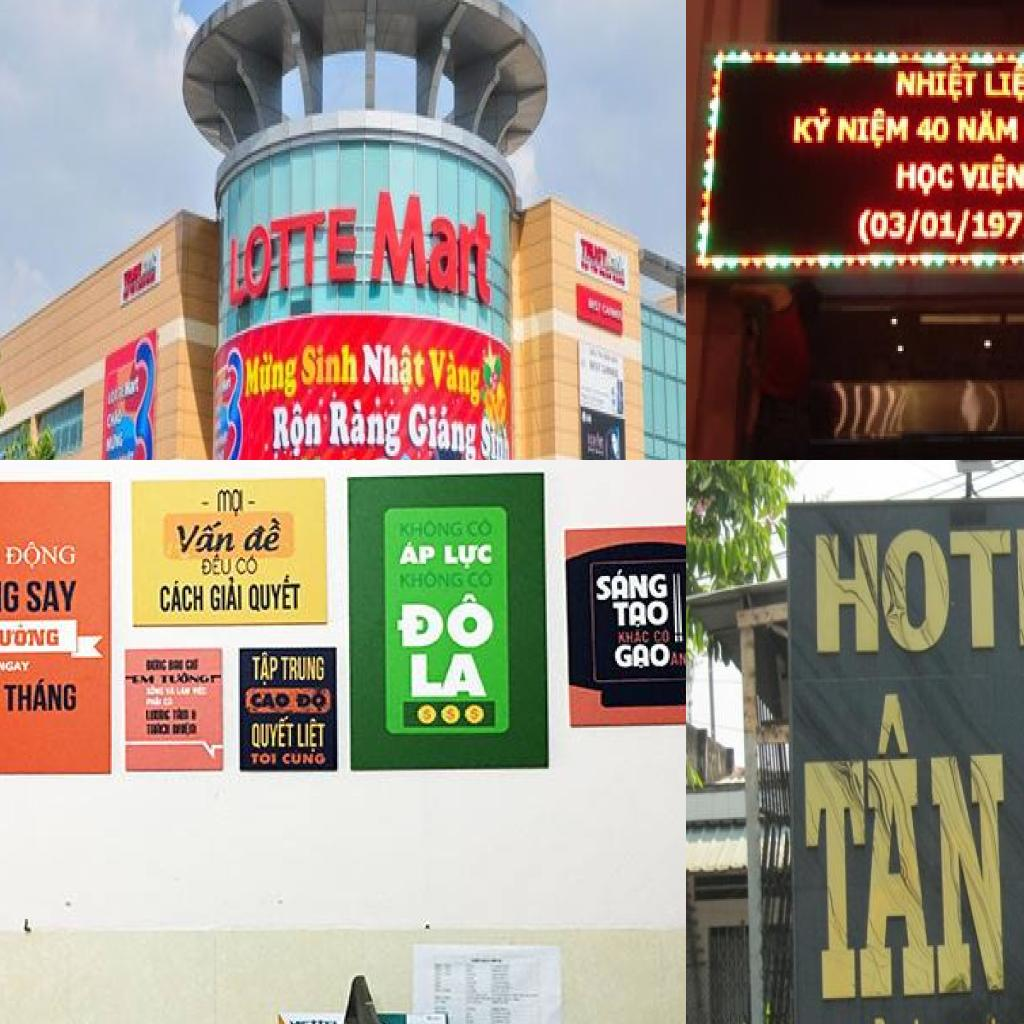text: (784, 682, 1015, 1010), (803, 513, 1024, 665), (367, 187, 494, 313), (227, 202, 361, 315), (106, 332, 156, 460), (397, 591, 496, 651), (324, 394, 403, 460), (407, 399, 477, 460), (892, 60, 980, 108), (358, 340, 429, 397), (409, 652, 492, 700), (429, 345, 483, 412), (834, 106, 912, 151), (244, 343, 300, 404), (958, 151, 1024, 199), (214, 347, 242, 460), (270, 401, 323, 460), (303, 338, 358, 392), (4, 677, 78, 714), (595, 569, 670, 602), (956, 108, 1020, 146), (894, 162, 958, 199), (247, 574, 303, 614), (6, 540, 78, 571), (177, 520, 238, 556), (860, 207, 908, 250), (970, 206, 1024, 244), (24, 580, 78, 614), (982, 63, 1024, 105), (792, 106, 834, 148), (612, 601, 670, 629), (160, 580, 206, 614), (243, 516, 284, 554), (614, 644, 673, 670), (479, 413, 511, 460), (252, 716, 296, 750), (0, 623, 60, 647), (445, 543, 494, 571), (209, 576, 245, 613), (281, 656, 327, 684), (400, 570, 464, 590), (916, 114, 952, 148), (920, 210, 958, 242), (296, 718, 329, 754), (400, 520, 464, 538), (397, 540, 438, 566), (252, 651, 279, 689), (216, 487, 248, 518), (0, 572, 21, 615), (199, 554, 235, 578), (904, 210, 924, 250), (954, 207, 972, 250), (250, 692, 293, 709), (296, 690, 329, 712), (281, 752, 327, 765), (235, 554, 260, 576), (617, 630, 651, 646), (469, 571, 494, 591), (467, 518, 492, 538), (0, 661, 33, 673), (250, 752, 279, 765), (654, 629, 672, 644), (671, 651, 686, 668)
